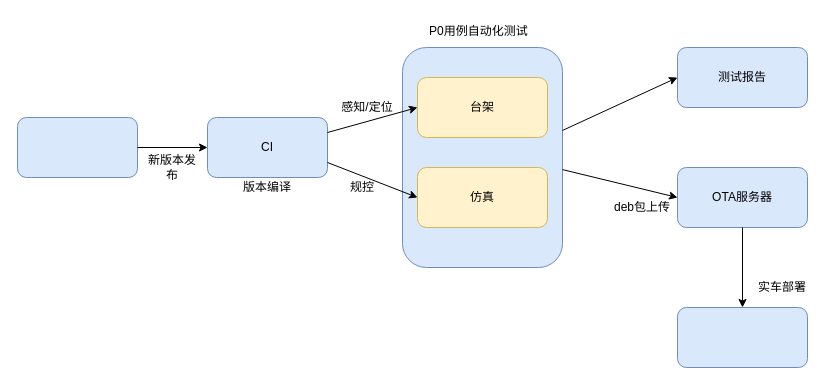
This 835x385 diagram has some shape labels left out. The centre of each missing label's shape, as x and y in pixels:
"gitlab" goes at [77,147].
"实车" goes at [742,337].
